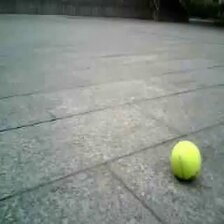tennis: (169, 140, 201, 178)
